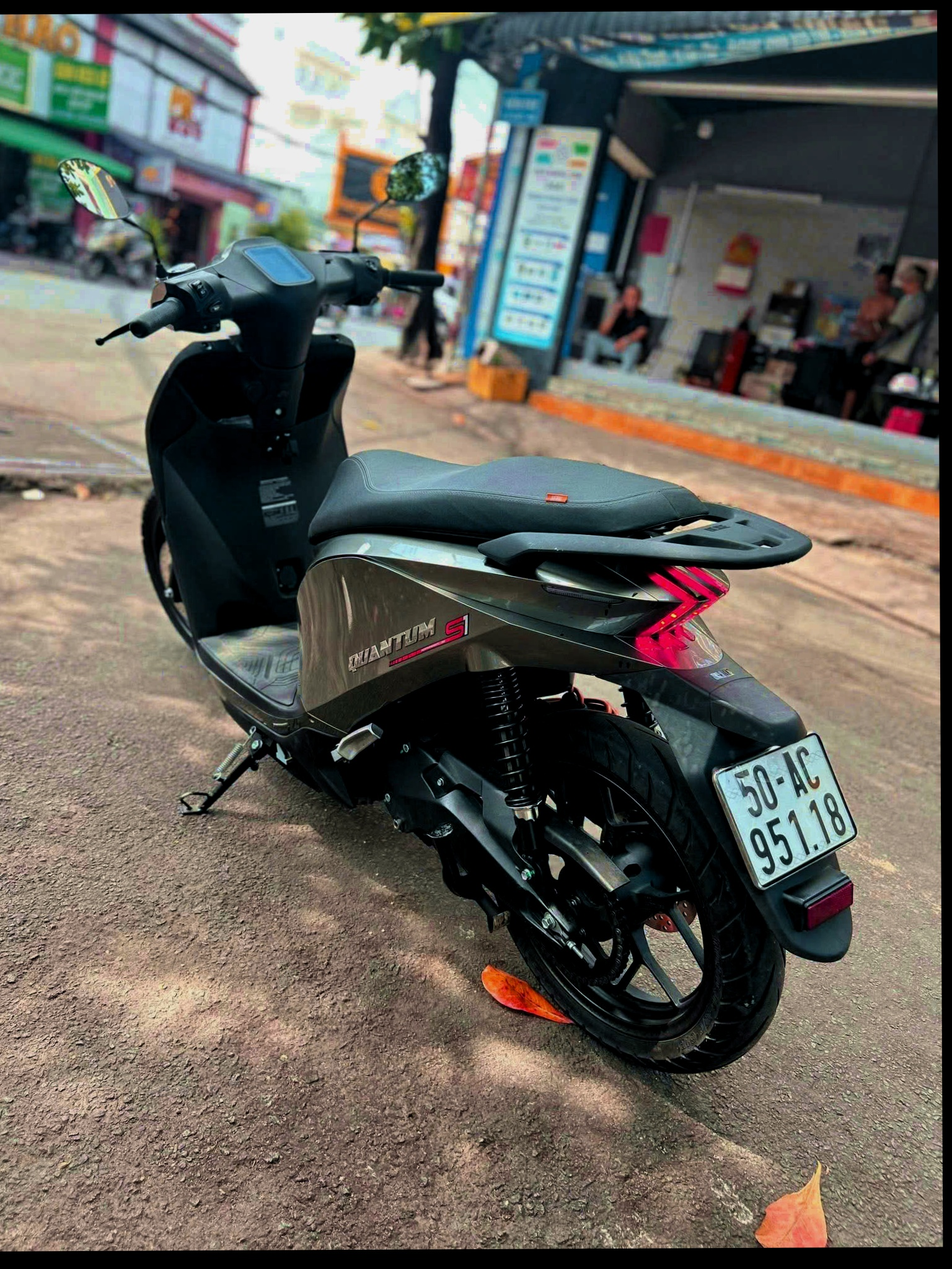Bien-so: (723, 733, 872, 904)
